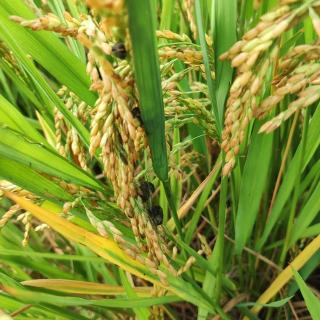Gosong-Palsu: (147, 204, 165, 227), (137, 180, 156, 201), (111, 40, 128, 60)
